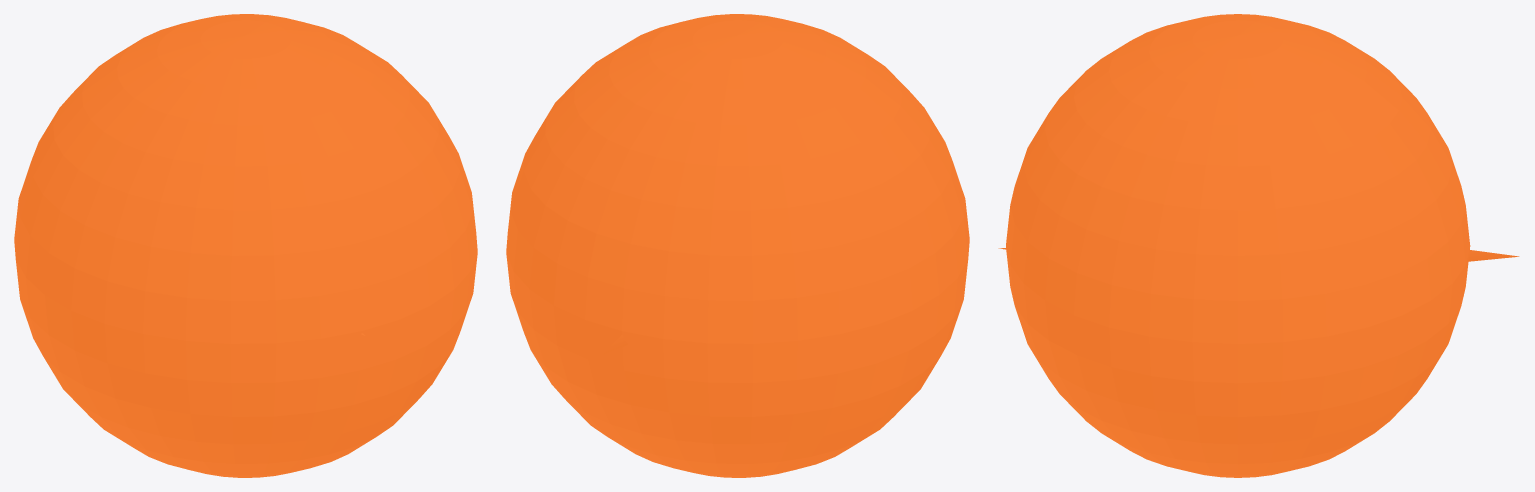
File: SparkModel.glb
3 views of the same model, side by side, from view 1: azimuth 30°, elevation 25°; view 2: azimuth 150°, elevation 25°; view 3: azimuth 270°, elevation 25° (orthographic).
Visible parts, largest first — view 1: Sphere; view 2: Sphere; view 3: Sphere.
Part boxes in pixels (x1=…): Sphere: x1=14, y1=14, x2=477, y2=477; Sphere: x1=506, y1=14, x2=969, y2=477; Sphere: x1=1006, y1=14, x2=1470, y2=477.
Bounding box in the file's own units: 0.2 × 0.2 × 0.225.
